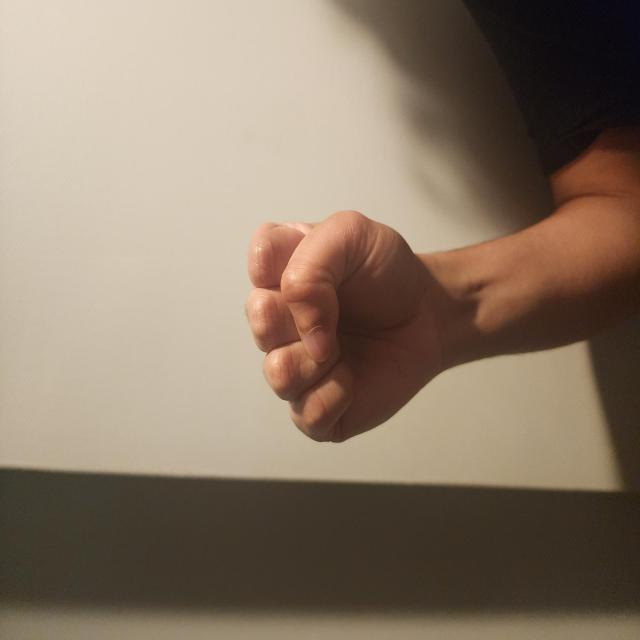S: (144, 320, 332, 610)
